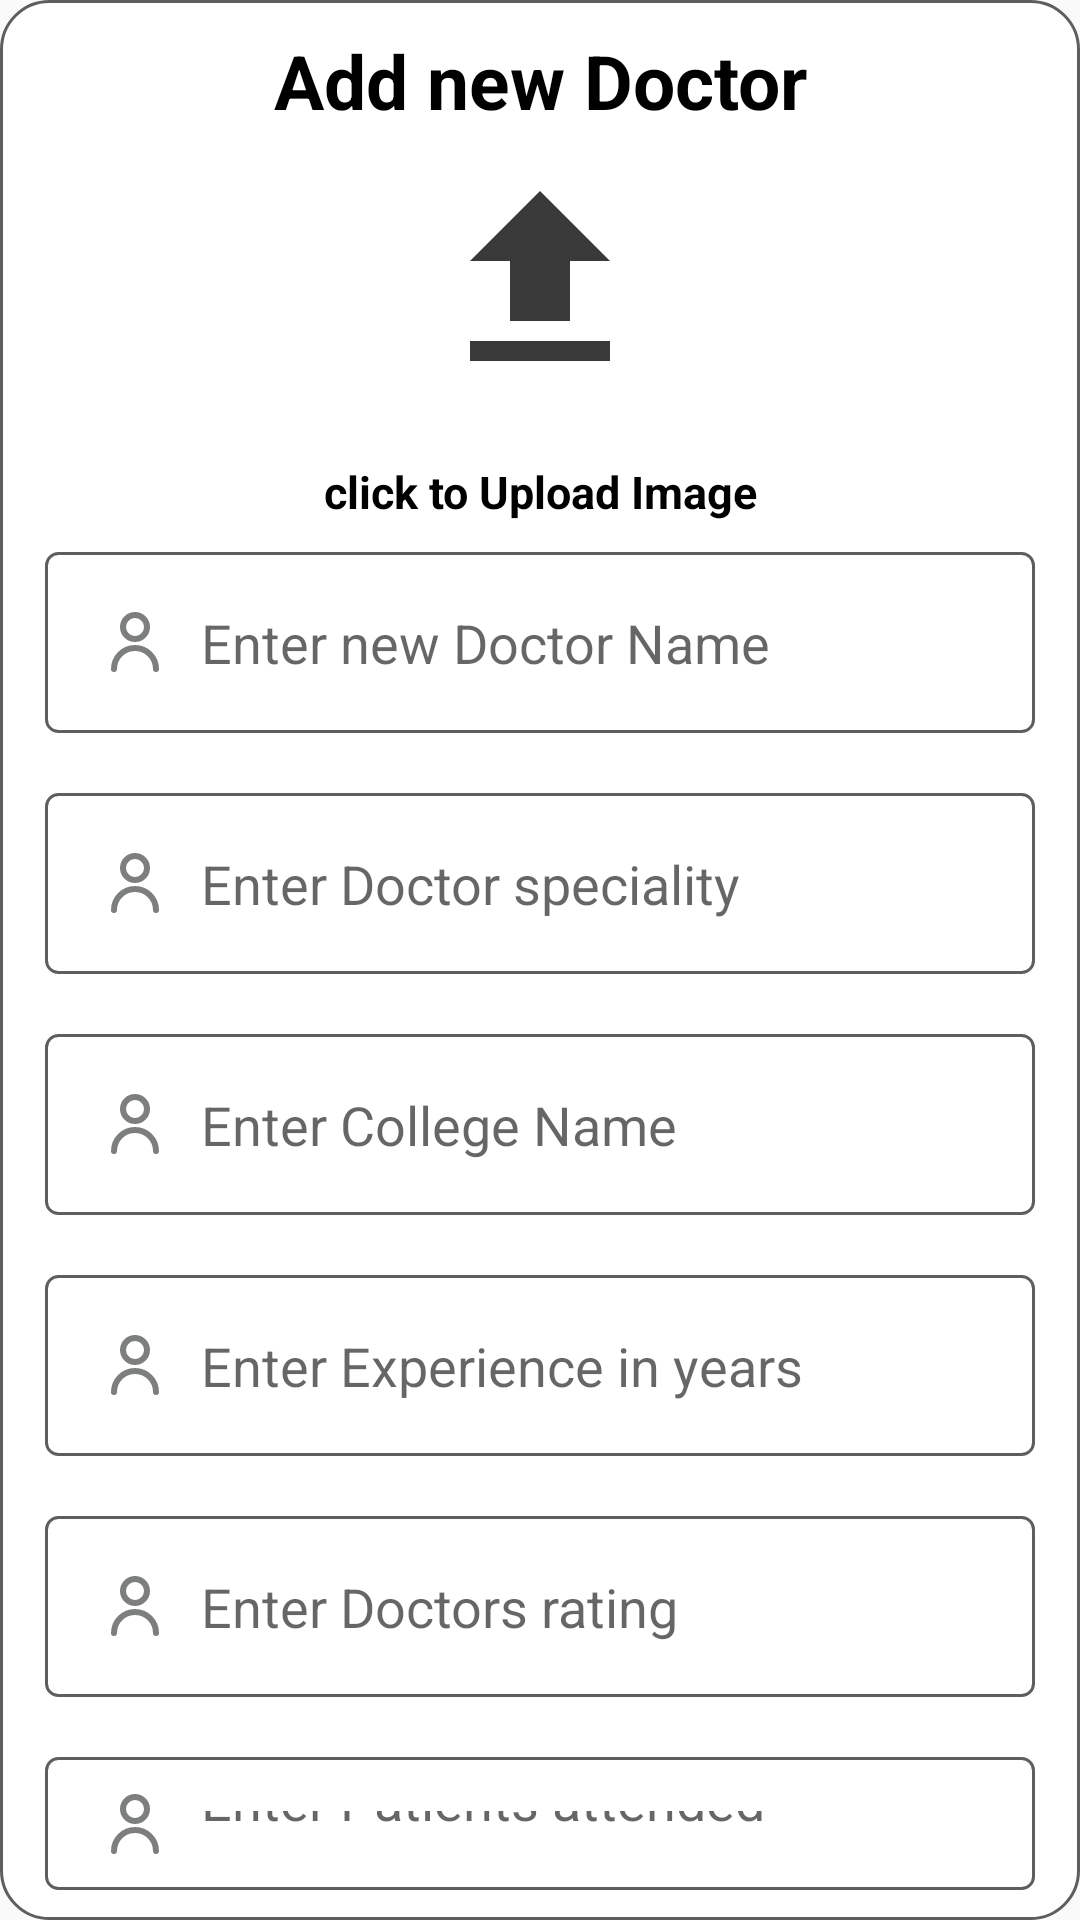

Where icons sit on this 1080w x 1920h app screen, as (x1, y1, x2, y2):
file upload: (470, 191, 610, 361)
